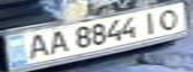4: (118, 14, 142, 39), (106, 17, 127, 43)
8: (69, 22, 93, 51), (90, 20, 109, 47)
A: (18, 30, 54, 61), (42, 28, 72, 56)
I: (136, 8, 163, 35)
O: (151, 6, 187, 30)
